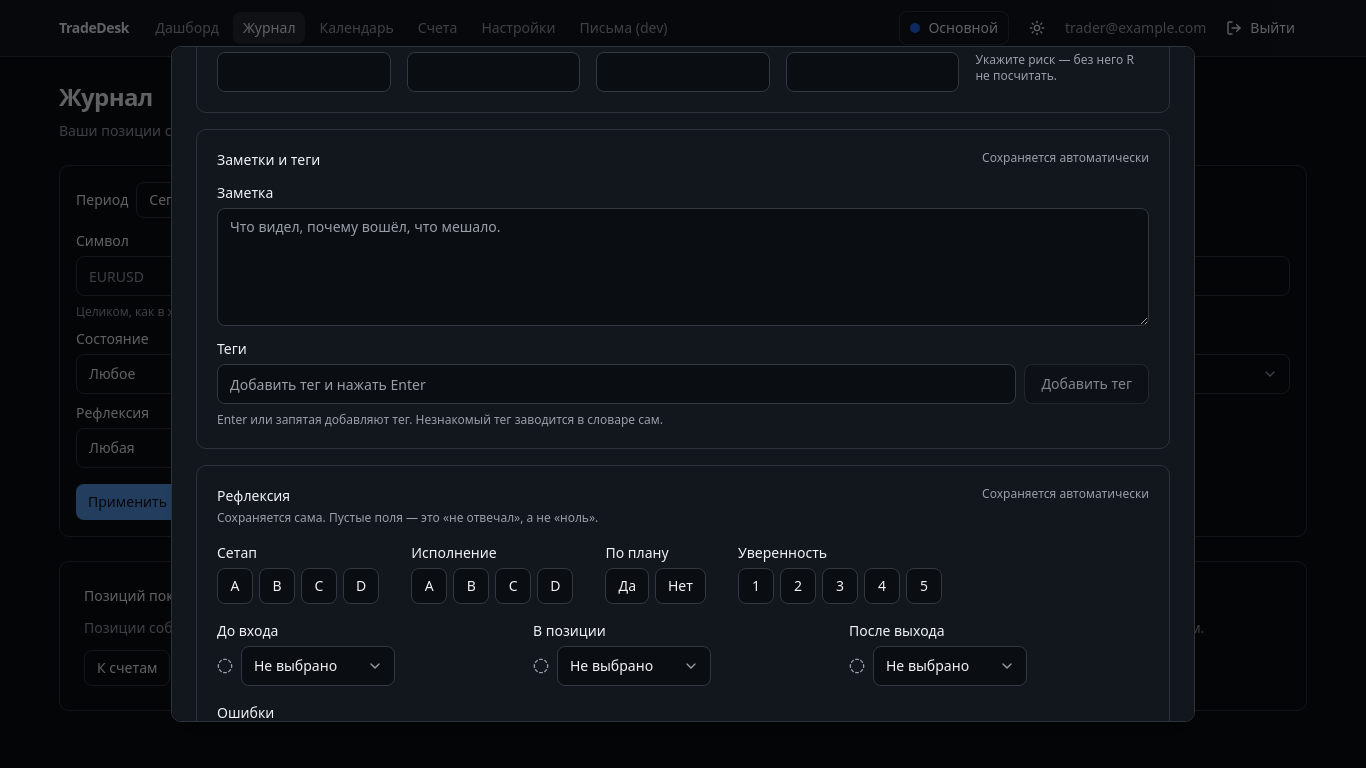
Scenario: карточка позиции: автосохранение › написание тега берётся из словаря сервера, а не из набранного
(page scrolled)
Type "trend" into the field labelled "Теги".
click(617, 384); type("trend")  # box [217,364,1016,404]
Then press Enter
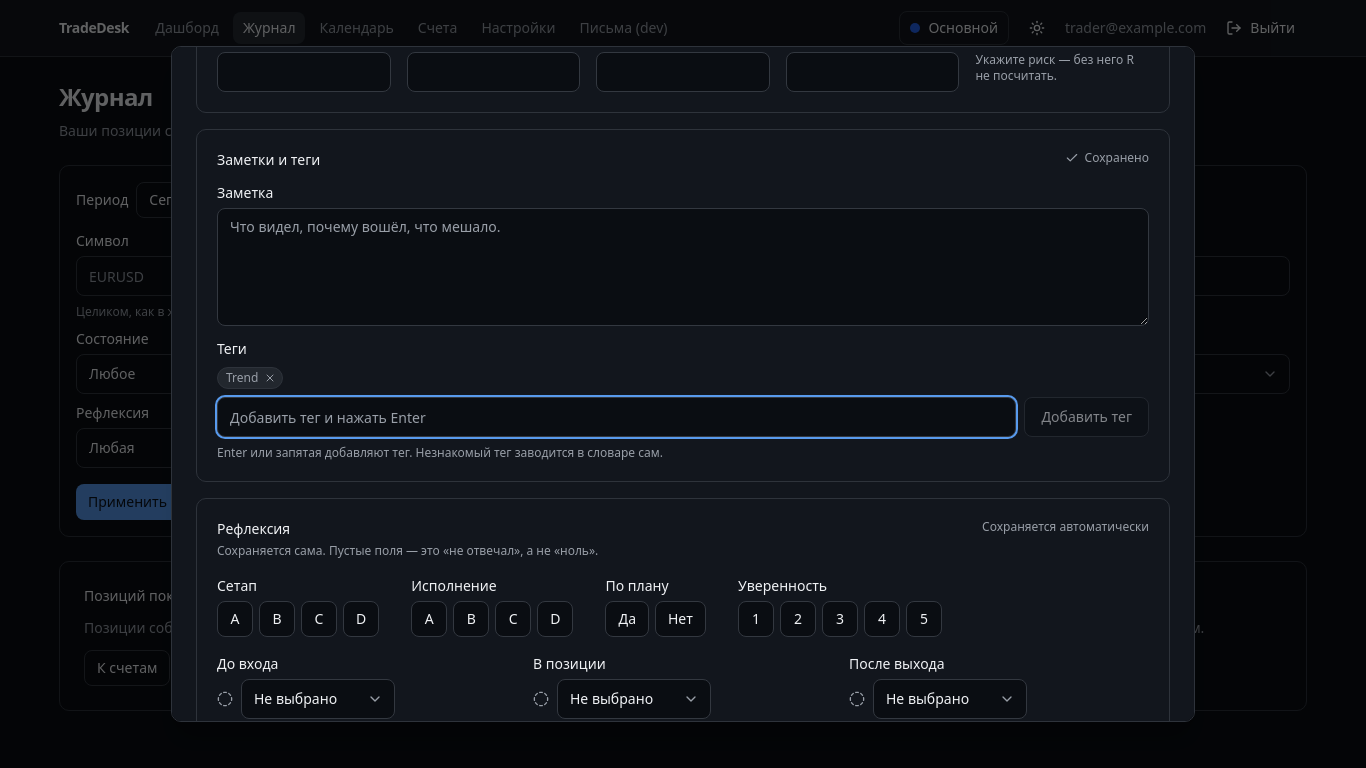
Expected: the text "Trend" is shown, [217,367,283,389]
